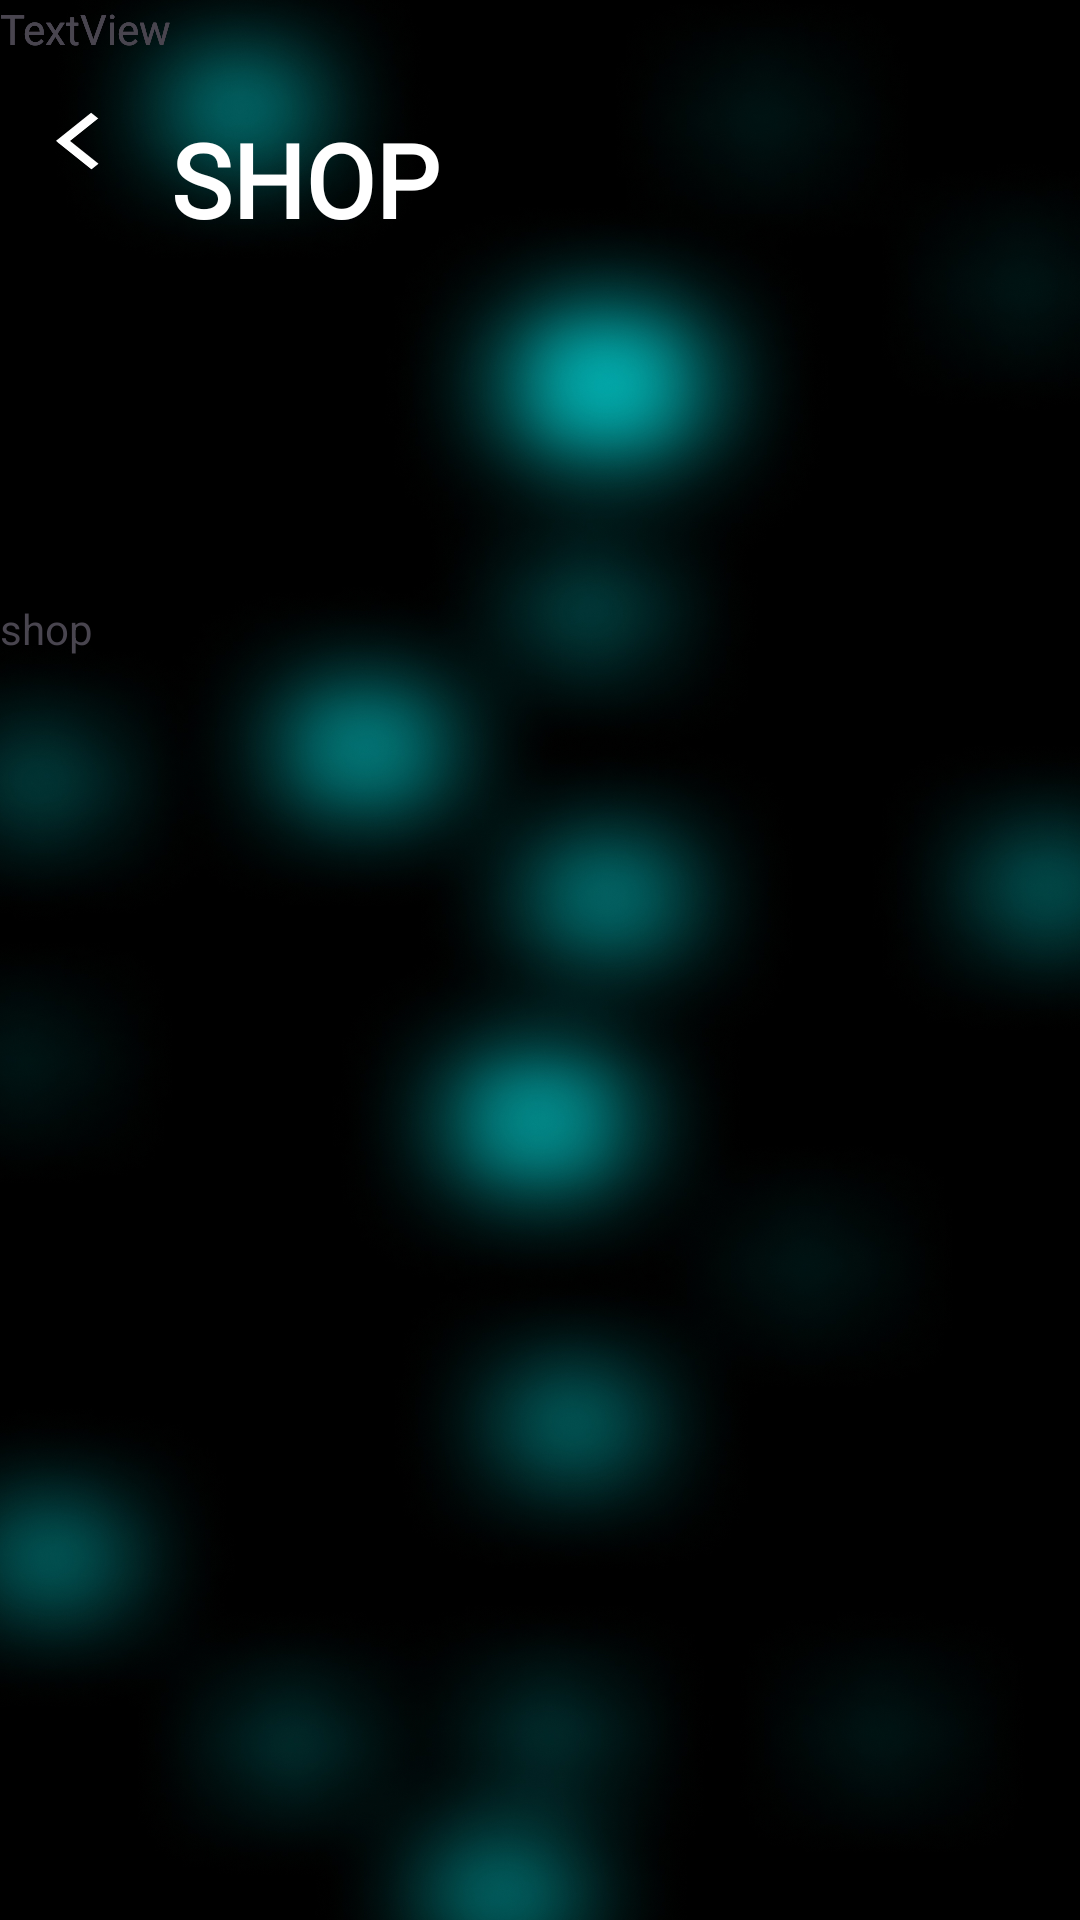

Named icons in this screenshot (1080*1920) and their centers, (x=x, y=y):
backsvg: (x=77, y=141)
